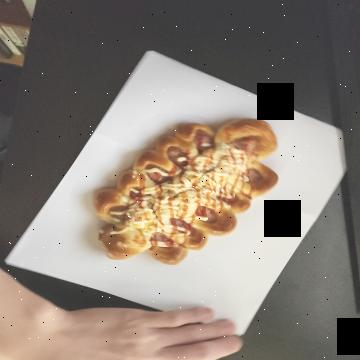pizza_bread: (116, 68, 263, 258)
